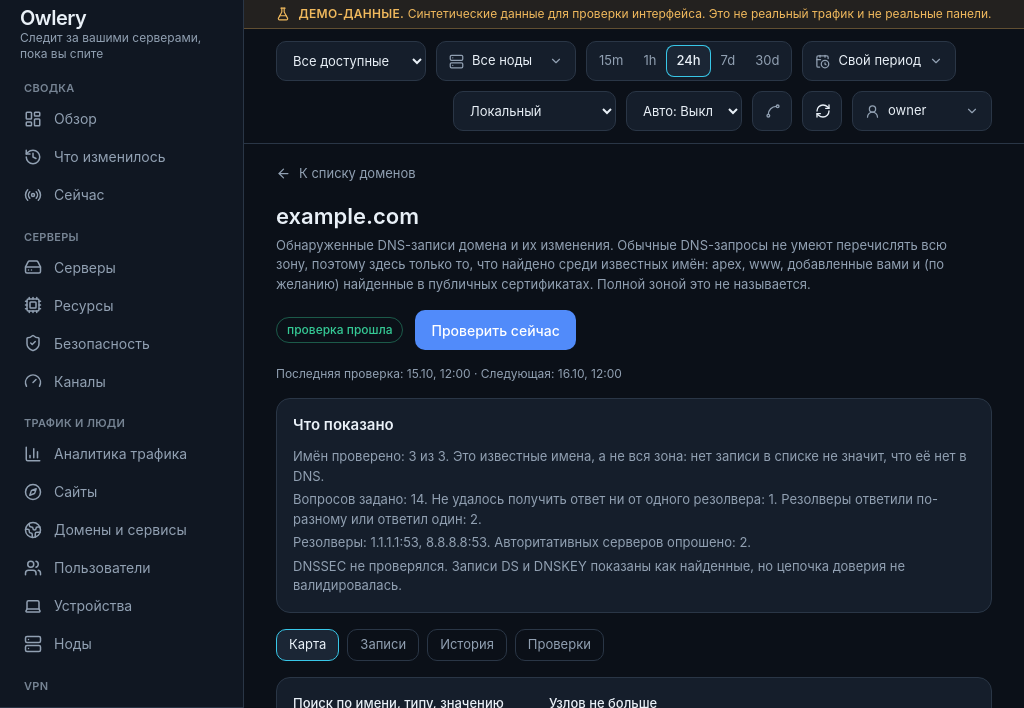
it: DNS Map › asks for a refresh and shows the authoritative servers, including one that was not asked
Click the button "Проверить сейчас": (496, 330) [416, 310, 576, 350]
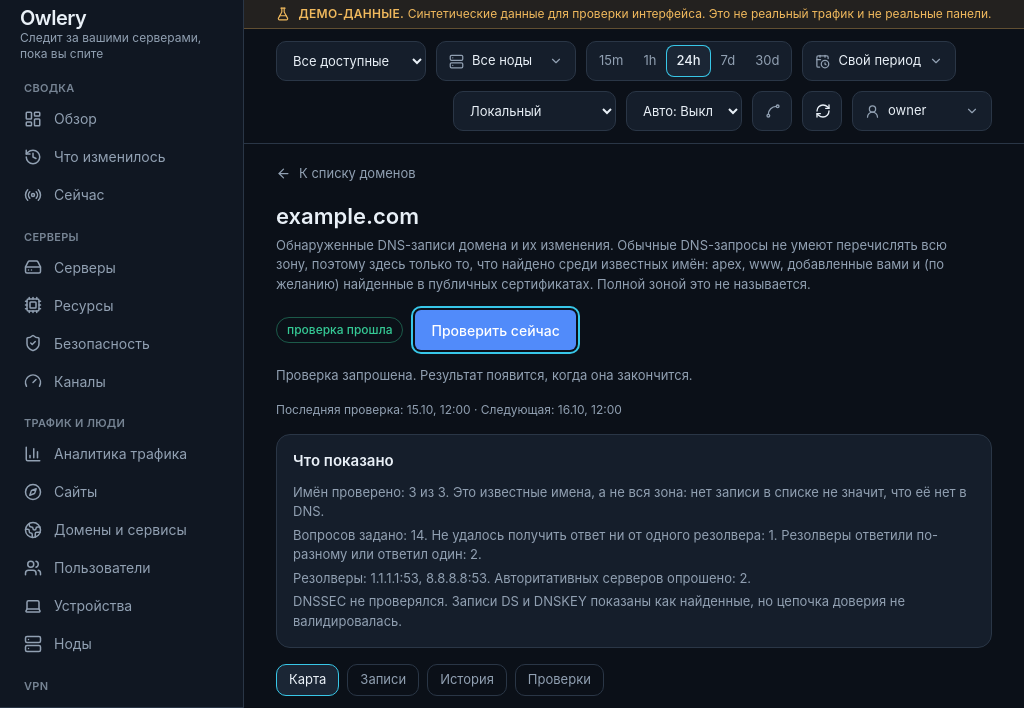
Expected: the text "Проверка запрошена. Результат появится, когда она закончится." is shown, [276, 367, 693, 383]
Click the tab "Проверки": (559, 680) [515, 664, 604, 696]
(page scrolled)
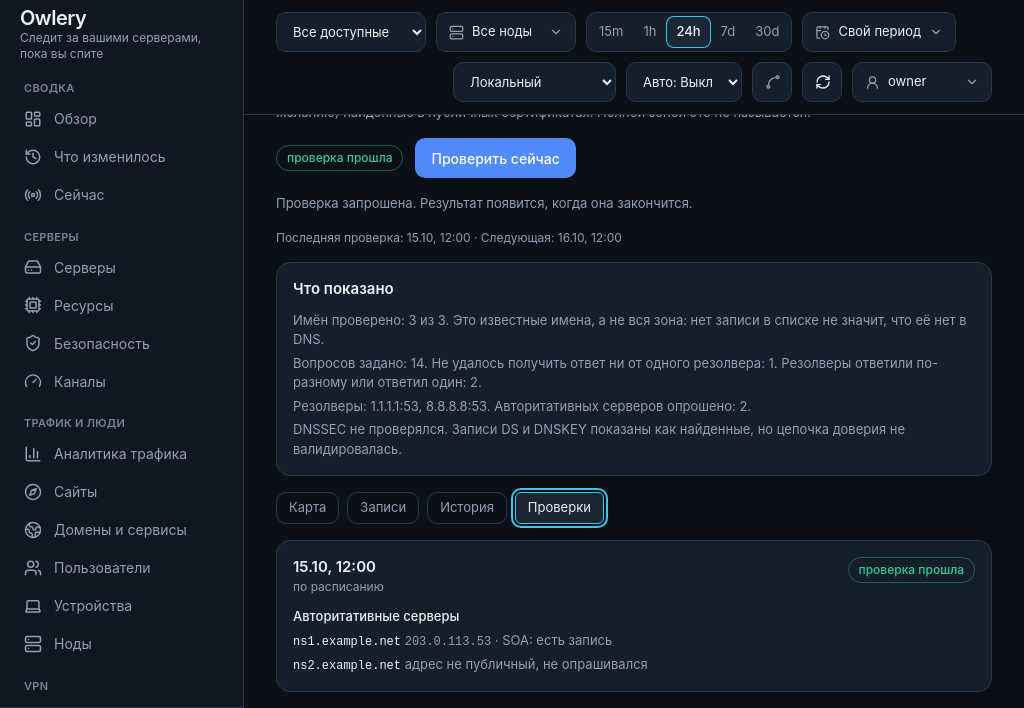
Expected: the text "ns1.example.net" is shown, [293, 634, 401, 648]
Expected: the text "203.0.113.53" is shown, [405, 634, 491, 648]
Expected: the list item "ns2.example.net адрес не публичный, не опрашивался" is shown, [293, 656, 648, 672]
